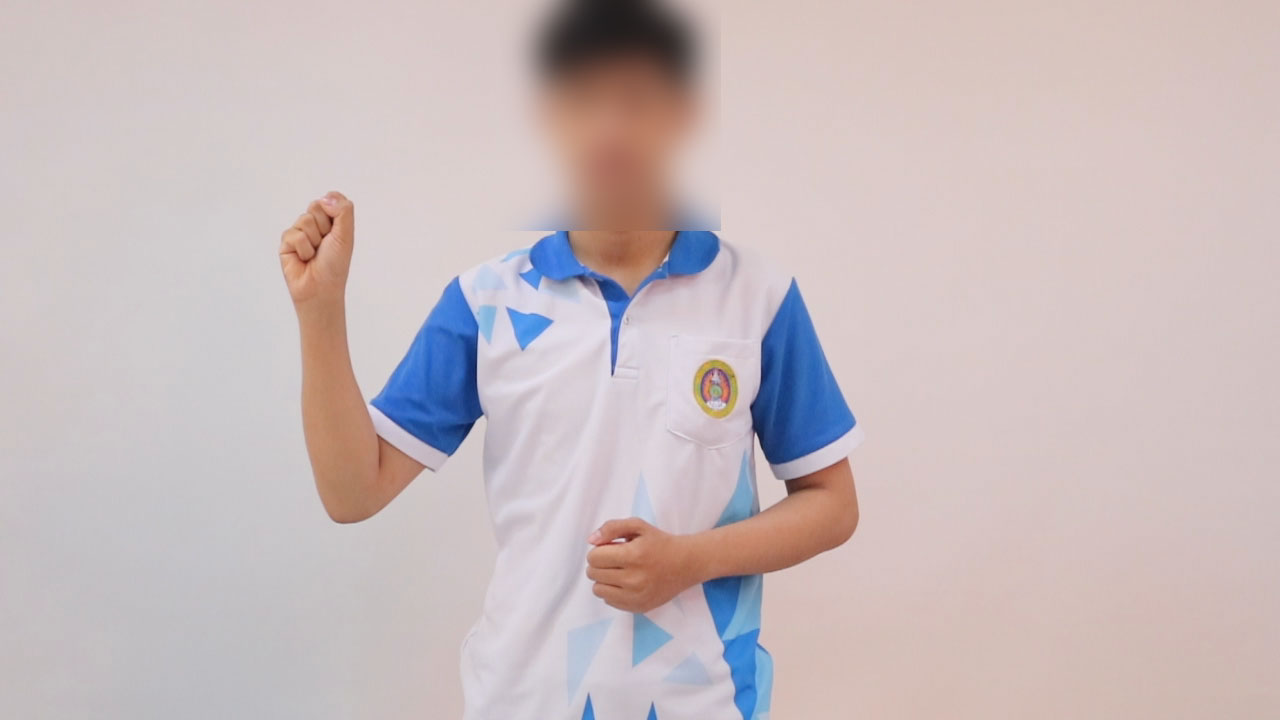sor: (257, 173, 383, 319)
